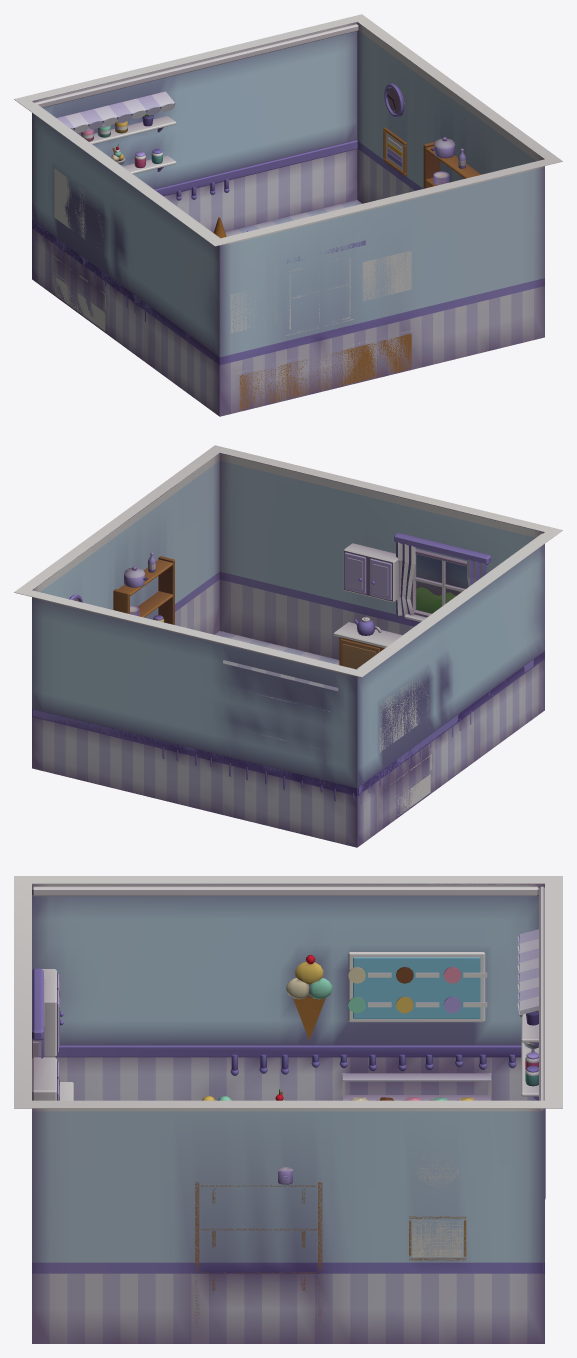
3 views of the same model, one above another, from view 1: azimuth 30°, elevation 25°; view 2: azimuth 150°, elevation 25°; view 3: azimuth 270°, elevation 25° (orthographic). The views are drawn at different scales.
Visible parts, largest first — view 1: back, room, props, table; view 2: room, back, table; view 3: back, room, props.
Boxes of the visible parts, <box> form: back: <box>208,14,562,416</box>; room: <box>14,17,358,416</box>; props: <box>80,113,253,238</box>; table: <box>225,200,361,236</box>; room: <box>25,532,556,847</box>; back: <box>14,445,562,669</box>; table: <box>215,631,339,664</box>; back: <box>14,876,562,1343</box>; room: <box>32,876,562,1271</box>; props: <box>202,1010,538,1100</box>.
Size of the model in its own units: 9.2 by 4.5 by 9.2.
